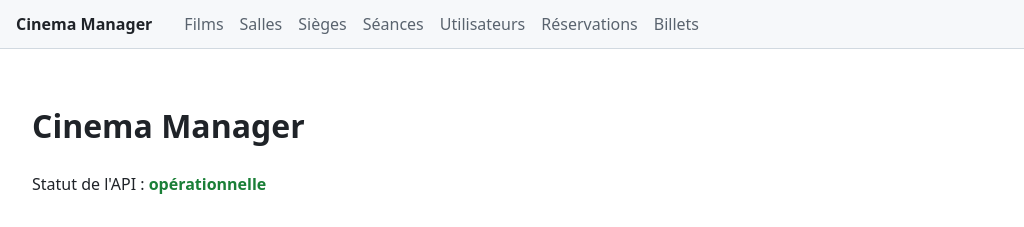
Test: App › navigates to the page "Films" (/movies)
Click the link "Films".
click(204, 24)  # box x1=184 y1=12 x2=224 y2=36
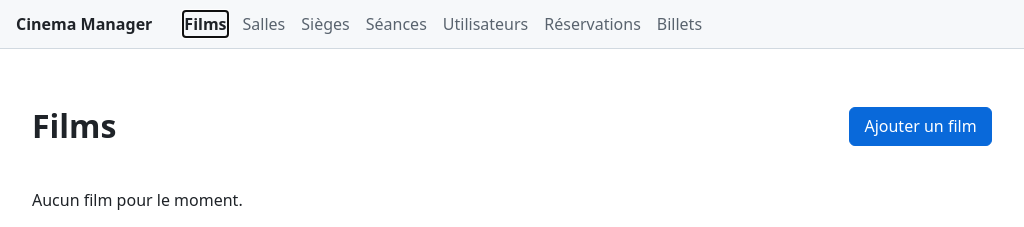
Now the heading "Films" is shown, box x1=32 y1=102 x2=116 y2=150
